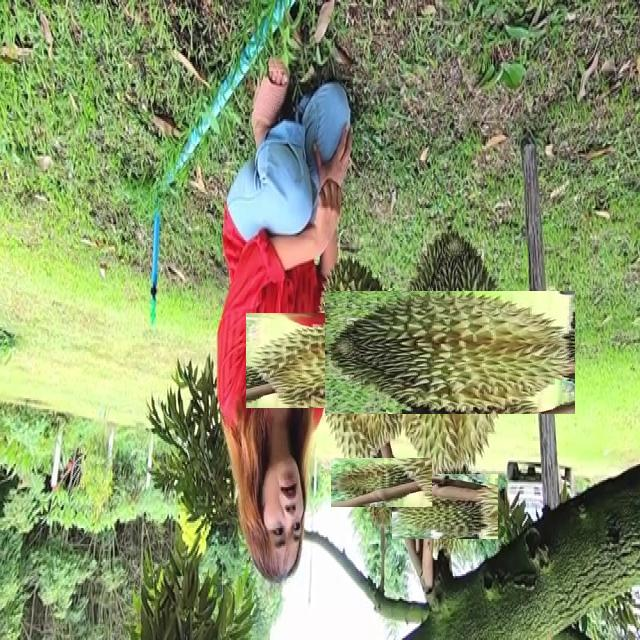durian: (356, 259, 543, 446), (278, 282, 437, 440), (402, 464, 488, 550), (344, 445, 419, 520)
